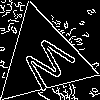W: (18, 33, 83, 99)
